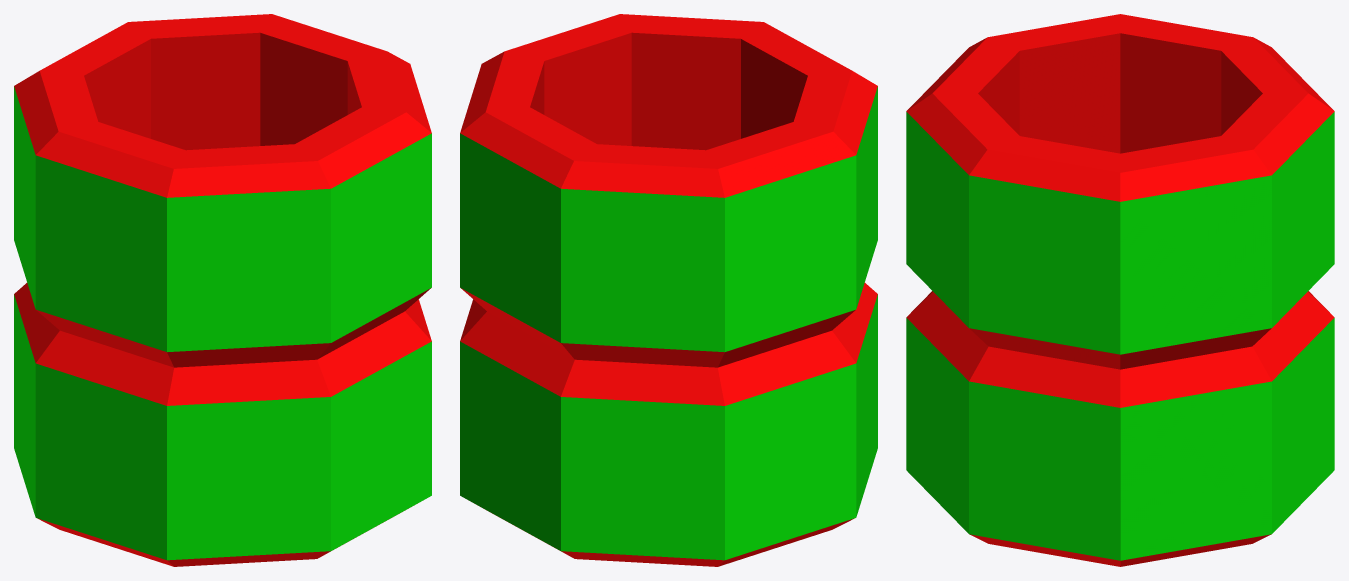
Rendered from Tires.FBX.
The picture shows the model from 3 angles, left to right: view 1: azimuth 30°, elevation 25°; view 2: azimuth 150°, elevation 25°; view 3: azimuth 270°, elevation 25°; orthographic projection.
Visible parts, largest first — view 1: Tires; view 2: Tires; view 3: Tires.
Part boxes in pixels (x1,y1,x2,y2): Tires: (14, 14, 431, 566); Tires: (460, 14, 877, 566); Tires: (906, 14, 1334, 566).
Size of the model in its own units: 66.89 by 68.01 by 66.89.
